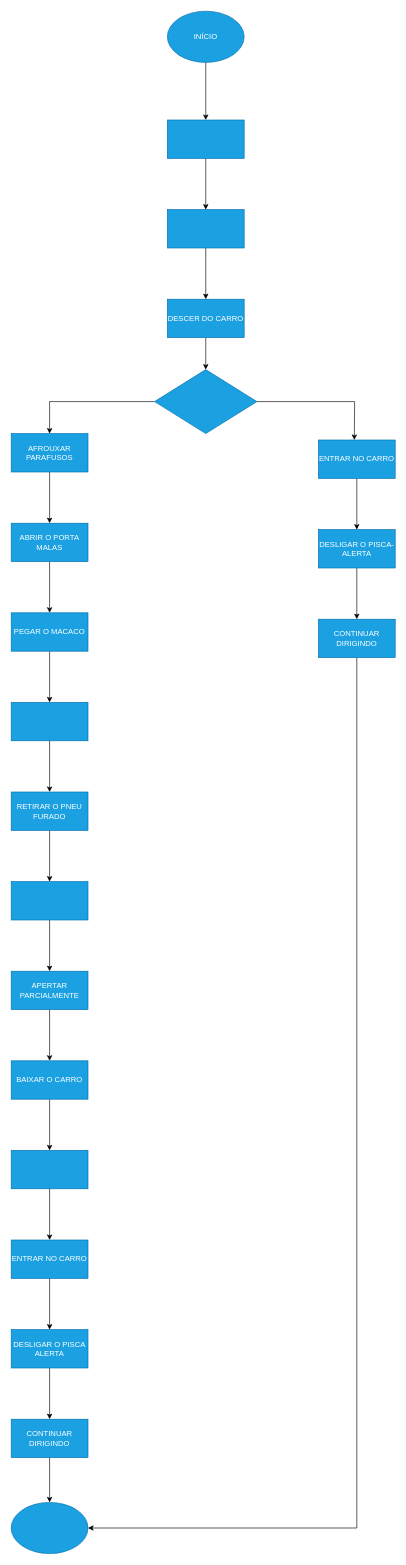
This 406x1565 diagram has some shape labels left out. The shapes that lost their labels are listed below. From the top down, each one's centre as x and y in pixels, then its label:
At point 205,138: "PARAR EM LOCAL SEGURO".
At point 205,228: "SINALIZAR (PISCA-ALERTA MAIS TRIÂNGULO)".
At point 205,401: "O PNEU ESTÁ FURADO".
At point 49,721: "LEVANTAR CARRO COM O MACACO".
At point 49,900: "PEGAR O ESTEPE".
At point 49,1169: "APERTAR DEFINITIVAMENTE".
At point 49,1528: "FIM".
